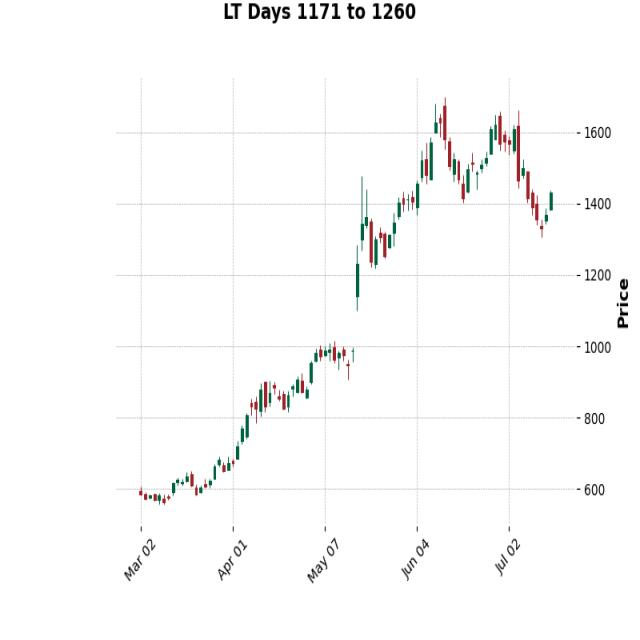Symmetric Triangle: (411, 94, 528, 199)
